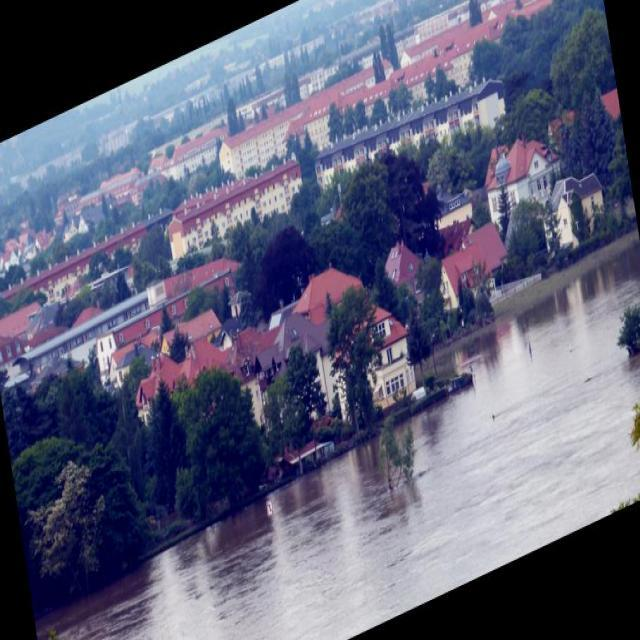flood: (21, 242, 639, 639)
